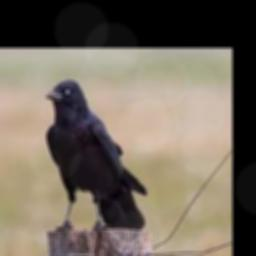Crow: (44, 79, 146, 230)
